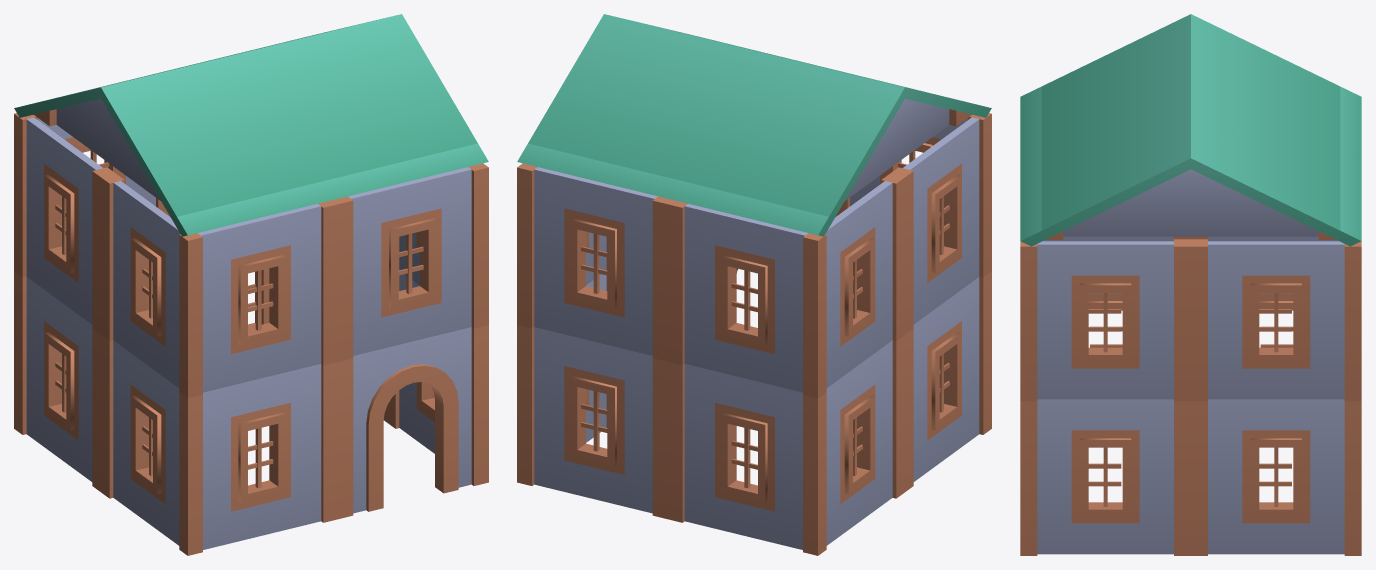
The model's file is near-2.glb.
The picture shows the model from 3 angles, left to right: view 1: azimuth 30°, elevation 25°; view 2: azimuth 150°, elevation 25°; view 3: azimuth 270°, elevation 25°; orthographic projection.
Visible parts, largest first — view 1: wall-window-glass; view 2: wall-window-glass; view 3: wall-window-glass.
Part boxes in pixels (x1=…): wall-window-glass: x1=14, y1=14, x2=488, y2=555; wall-window-glass: x1=517, y1=14, x2=991, y2=555; wall-window-glass: x1=1020, y1=14, x2=1361, y2=555.
Size of the model in its own units: 2 by 2.57 by 2.
1 material, 1 textured.
